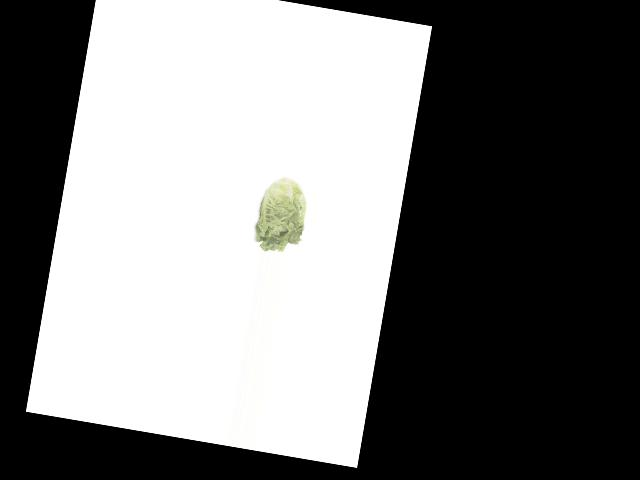lettuce: (249, 173, 316, 255)
